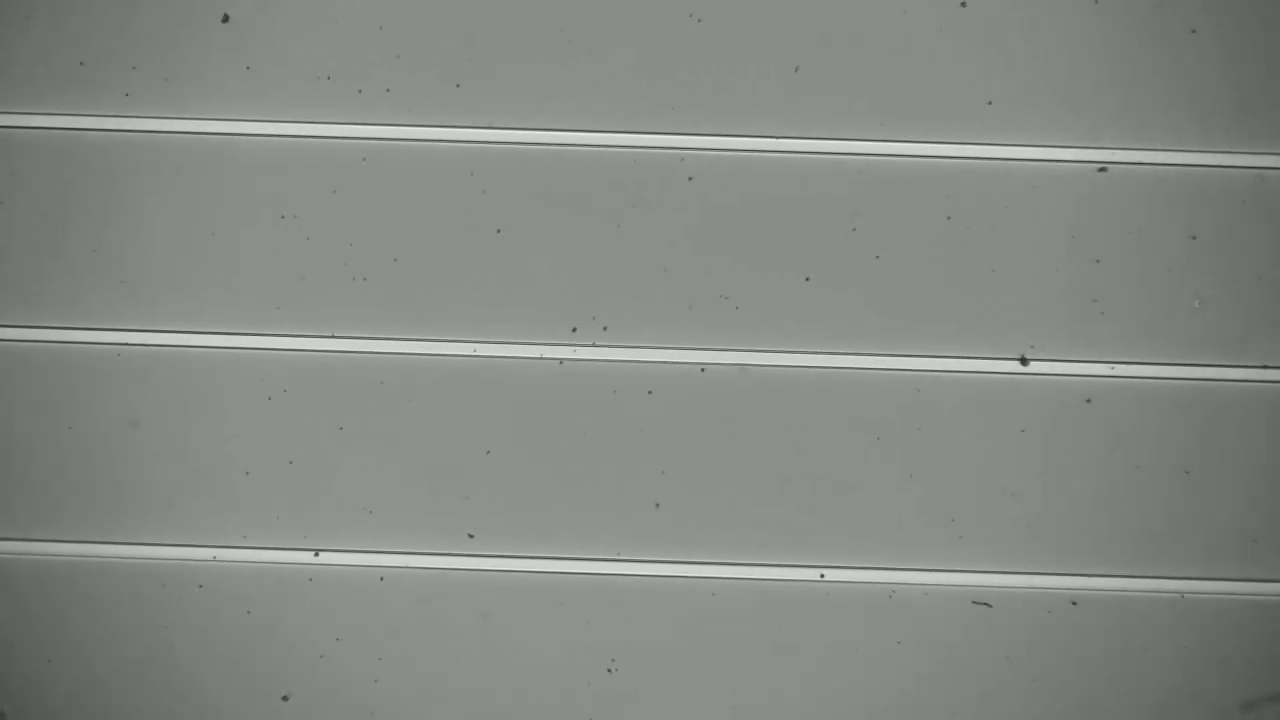stains_enbedded: (1013, 346, 1033, 382)
